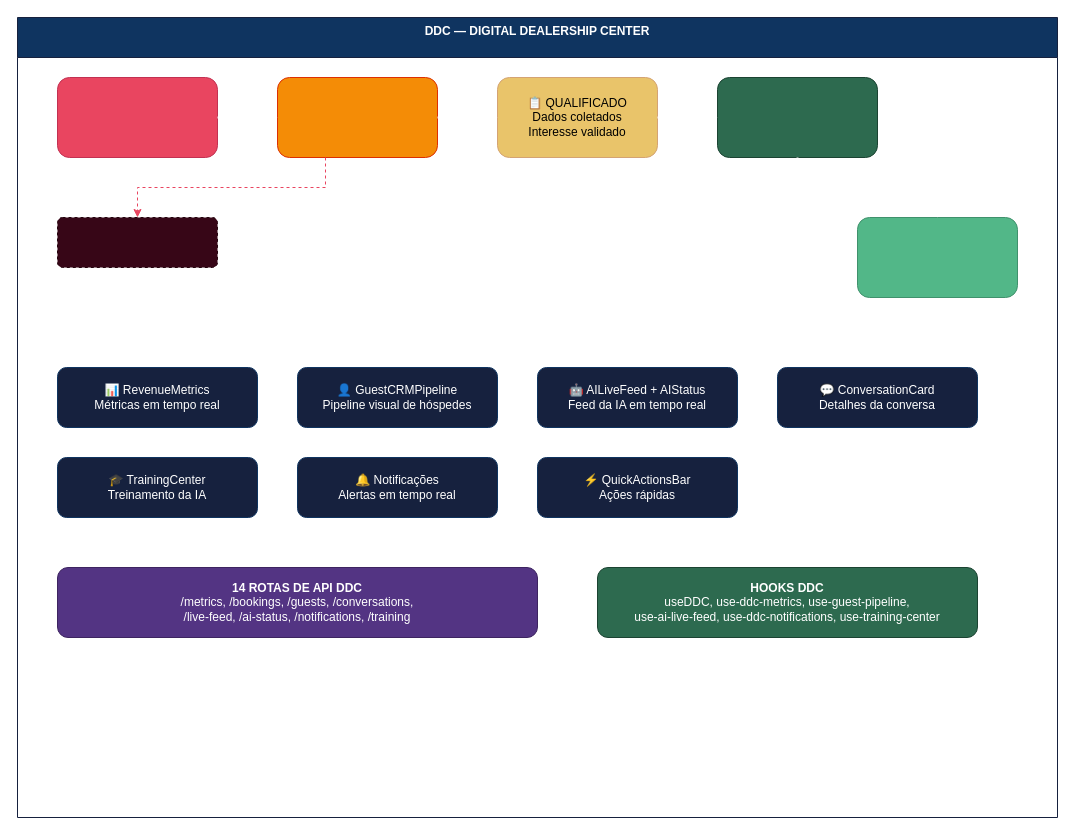
This 1075x835 diagram has some shape labels left out. The centre of each missing label's shape, as x and y in pixels:
"✅ CHECK-IN Hóspede no local Experiência completa" belongs at [937,257].
"🆕 NOVO Hóspede entra em contato" belongs at [137,117].
"💬 EM ATENDIMENTO Conversa ativa no WhatsApp" belongs at [357,117].
"📅 RESERVA Booking confirmado Ok para check-in" belongs at [797,117].
"🚫 DESISTÊNCIA / ARQUIVADO" belongs at [137,242].
